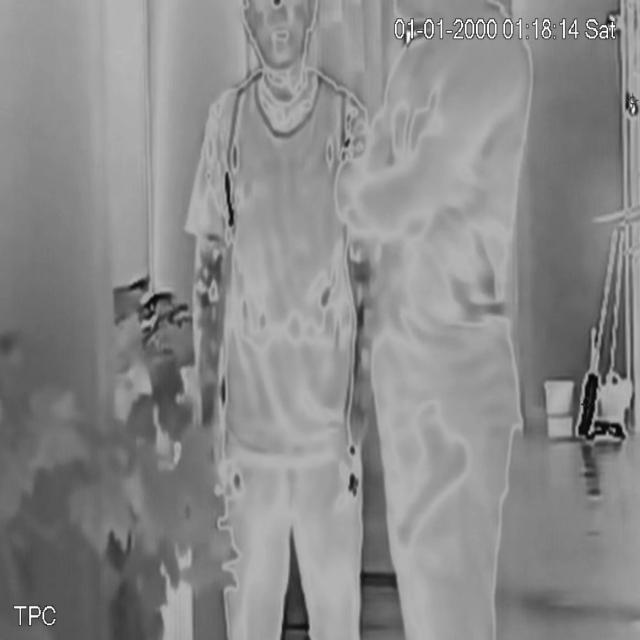Weapon: (391, 408, 472, 553)
